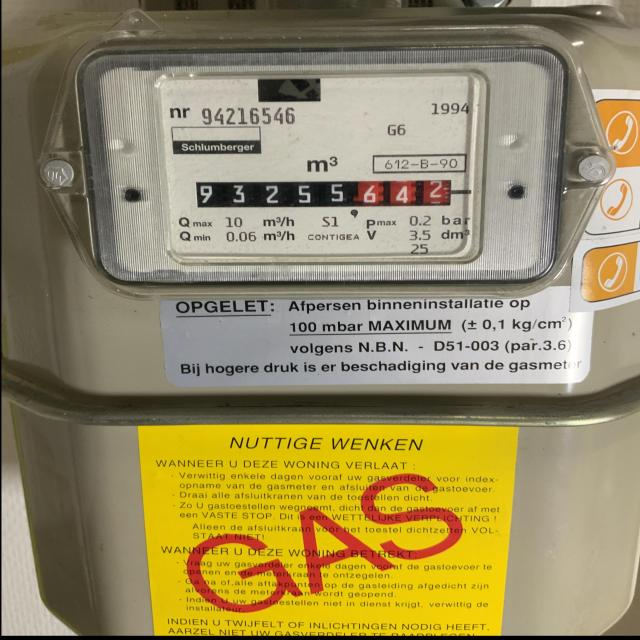gaz_meter: (153, 77, 481, 258)
indication: (187, 178, 452, 208)
